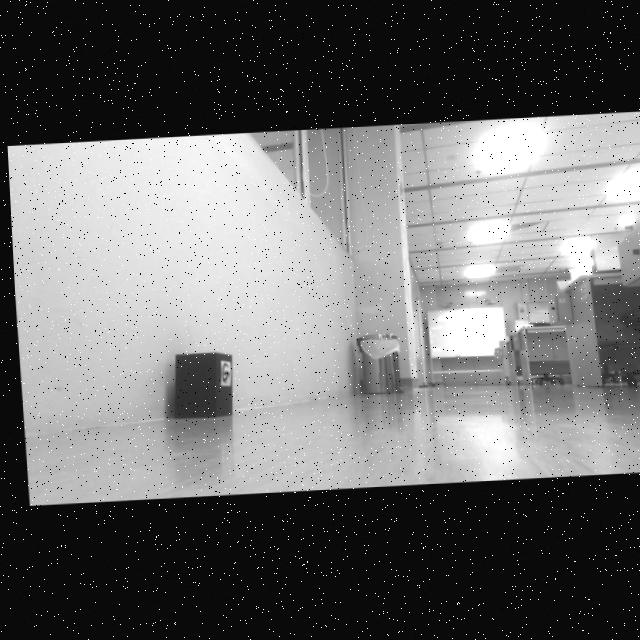G: (218, 364, 224, 383)
